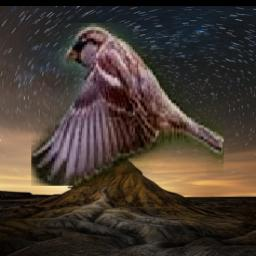Sparrow: (31, 23, 224, 186)
